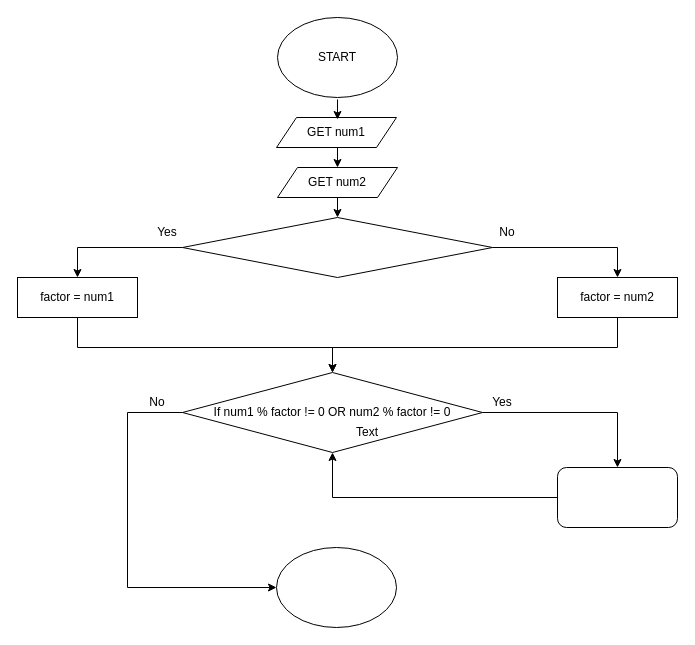
The diagram is 695 pixels wide and 645 high, and some of its shapes have lost their labels. Here are the shapes that lost their labels. From the top down, the box of each, then its label:
(182, 216, 492, 278): If num1 < num2
(556, 466, 678, 528): factor = factor - 1
(276, 546, 396, 628): END
